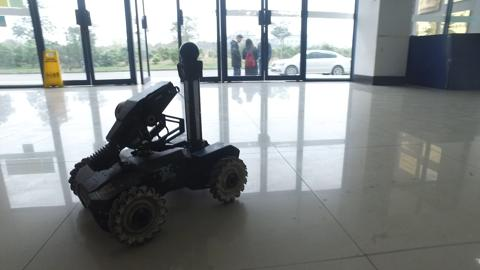chariot: (63, 40, 262, 246)
